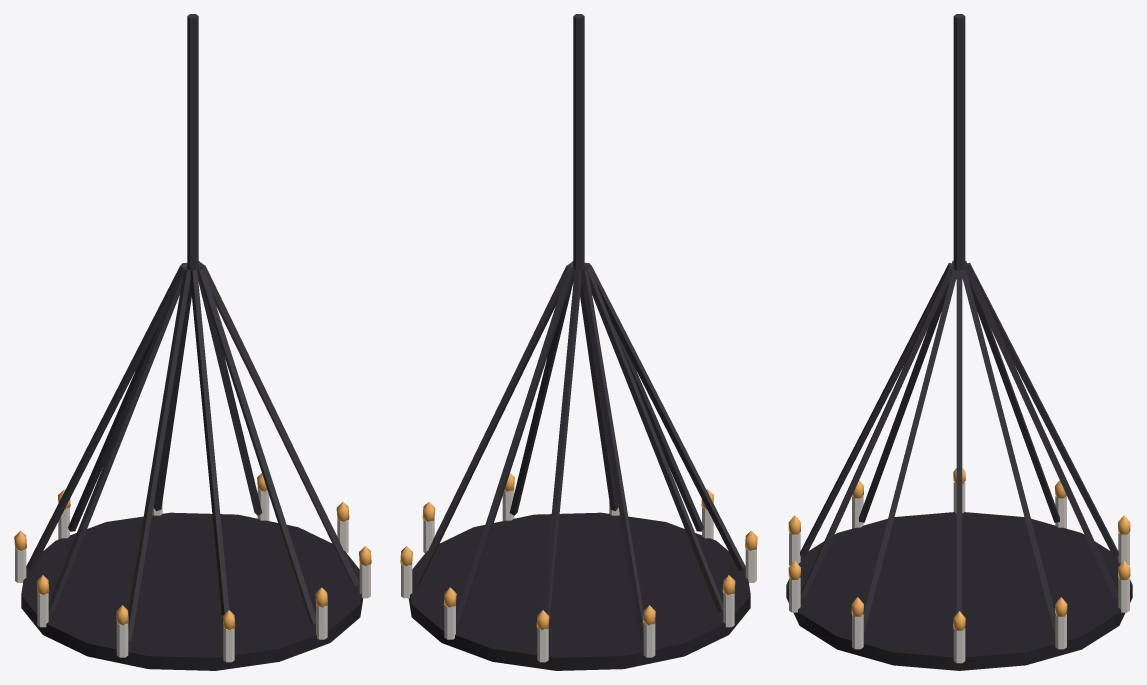
File: iron_chandelier.glb
3 views of the same model, side by side, from view 1: azimuth 30°, elevation 25°; view 2: azimuth 150°, elevation 25°; view 3: azimuth 270°, elevation 25° (orthographic).
Parts seen in each view (by area): view 1: iron_chandelier; view 2: iron_chandelier; view 3: iron_chandelier.
Boxes of the visible parts, x1=… form: iron_chandelier: x1=14, y1=14, x2=371, y2=670; iron_chandelier: x1=400, y1=14, x2=757, y2=670; iron_chandelier: x1=786, y1=14, x2=1132, y2=670.
Size of the model in its own units: 2.49 by 4.45 by 2.4.
